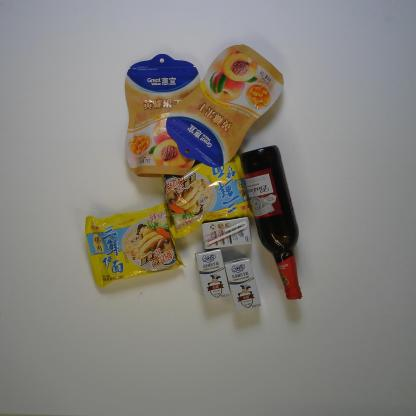Alcohol: (240, 143, 302, 301)
Dried Fruit: (165, 42, 285, 168), (123, 52, 203, 179)
Instant Noodles: (85, 200, 187, 294), (161, 150, 257, 240)
Milk: (193, 247, 232, 303), (224, 257, 262, 313), (200, 216, 254, 250)
